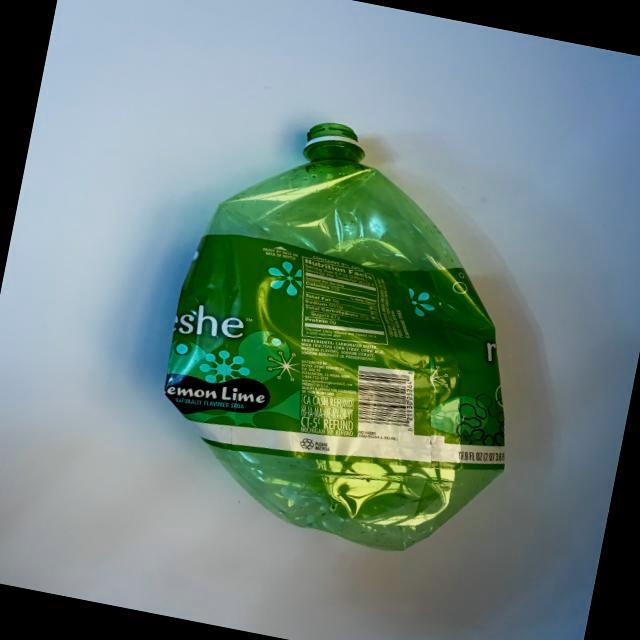plastic: (82, 82, 576, 592)
